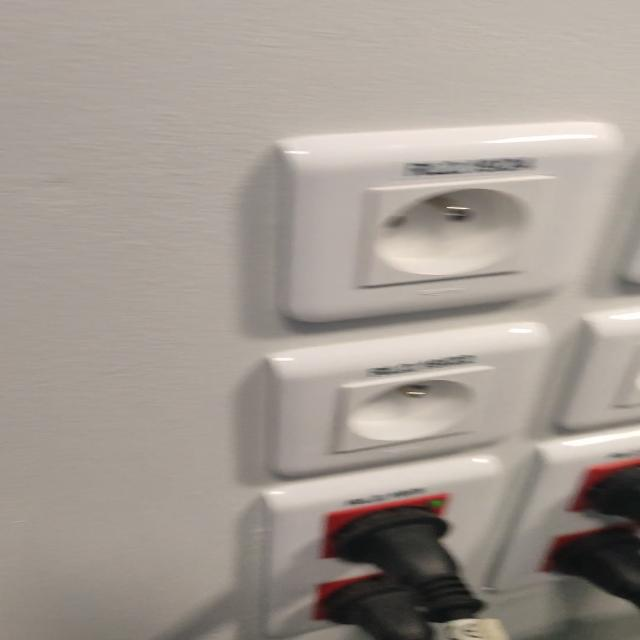house plug: (361, 177, 547, 287), (339, 366, 484, 451)
